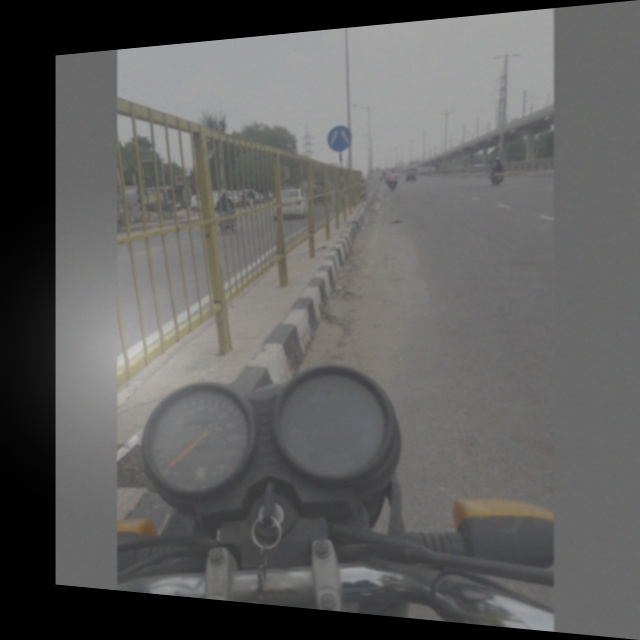Pass_Either_Side: (327, 120, 354, 157)
